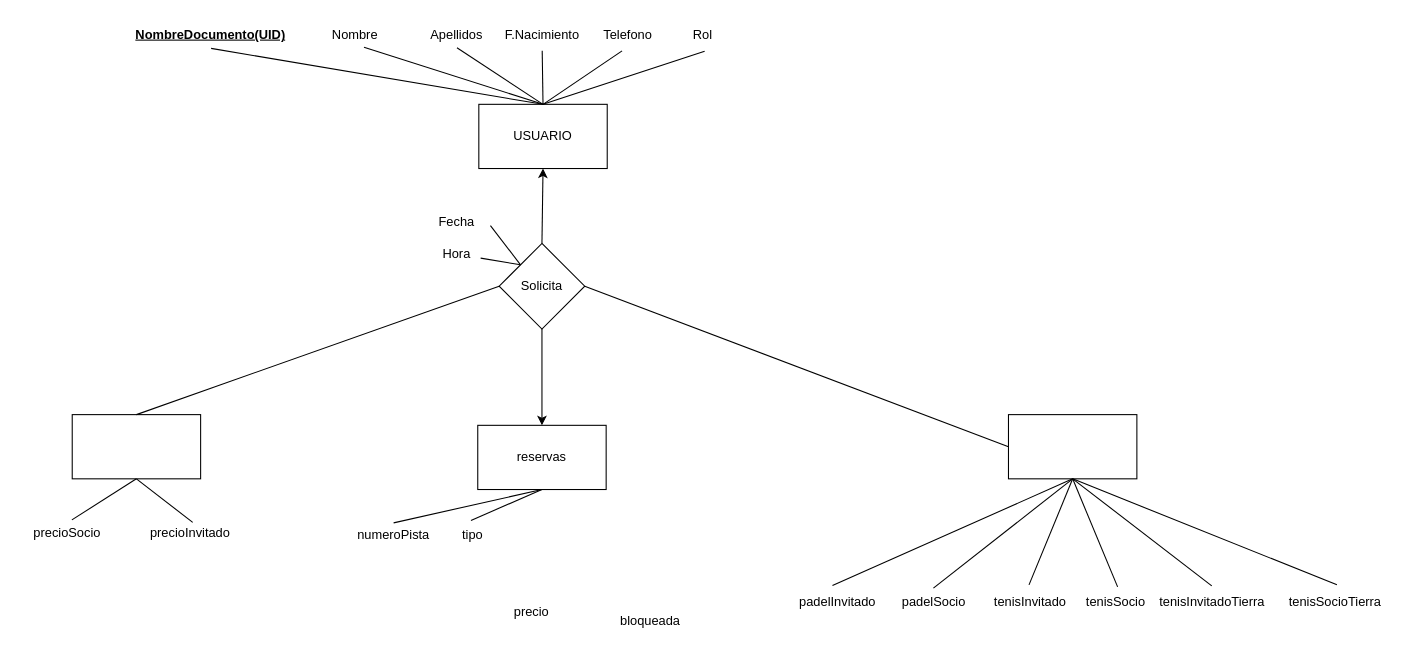
The diagram is 1411 pixels wide and 655 high, and some of its shapes have lost their labels. Each missing label, with the box of its shape:
BolosPrecio: (71, 414, 201, 479)
TenisPadelPrecio: (1007, 414, 1137, 479)
